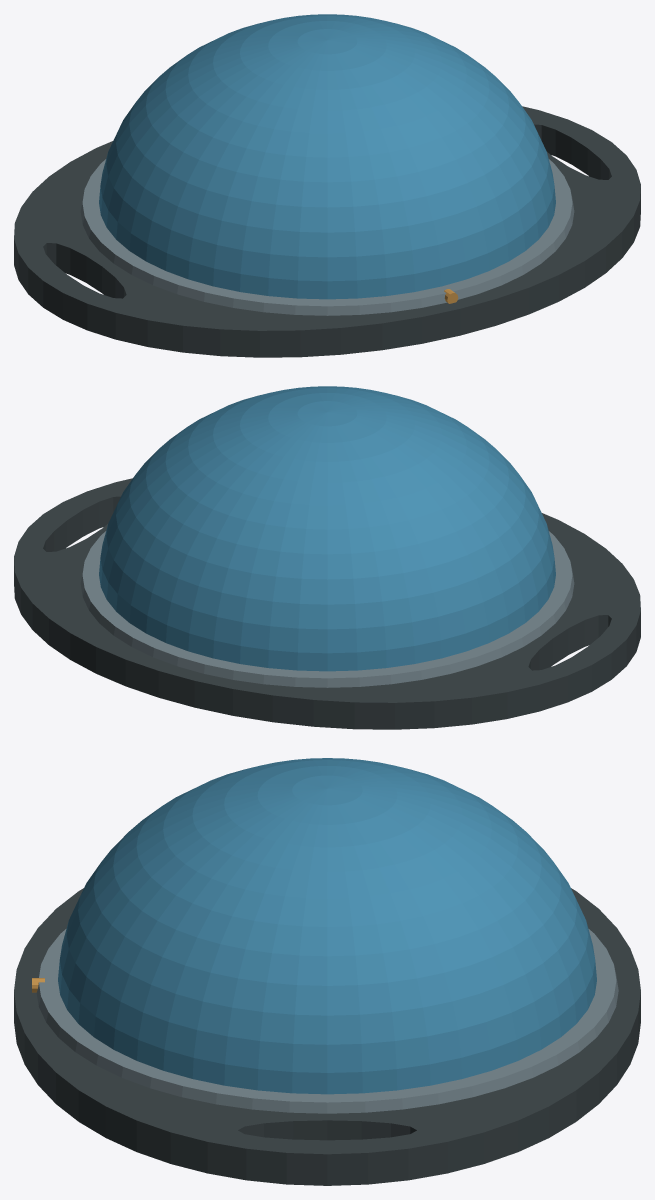
3 views of the same model, one above another, from view 1: azimuth 30°, elevation 25°; view 2: azimuth 150°, elevation 25°; view 3: azimuth 270°, elevation 25° (orthographic). The views are drawn at different scales.
Visible parts, largest first — view 1: WholeClosedLowHalfDome, WholeOvalBaseWithTwinCarryApertures, WholeContinuousRetainingCollar; view 2: WholeClosedLowHalfDome, WholeOvalBaseWithTwinCarryApertures, WholeContinuousRetainingCollar; view 3: WholeClosedLowHalfDome, WholeOvalBaseWithTwinCarryApertures, WholeContinuousRetainingCollar.
Boxes of the visible parts, x1,y1,x2,y2 form: WholeClosedLowHalfDome: (99,14,555,299); WholeOvalBaseWithTwinCarryApertures: (14,106,640,357); WholeContinuousRetainingCollar: (80,159,574,315); WholeClosedLowHalfDome: (99,386,555,671); WholeOvalBaseWithTwinCarryApertures: (14,478,640,729); WholeContinuousRetainingCollar: (80,531,574,687); WholeClosedLowHalfDome: (58,758,596,1094); WholeOvalBaseWithTwinCarryApertures: (14,888,640,1185); WholeContinuousRetainingCollar: (36,929,618,1113).
Bounding box in the file's own units: 0.82 × 0.273 × 0.664.
